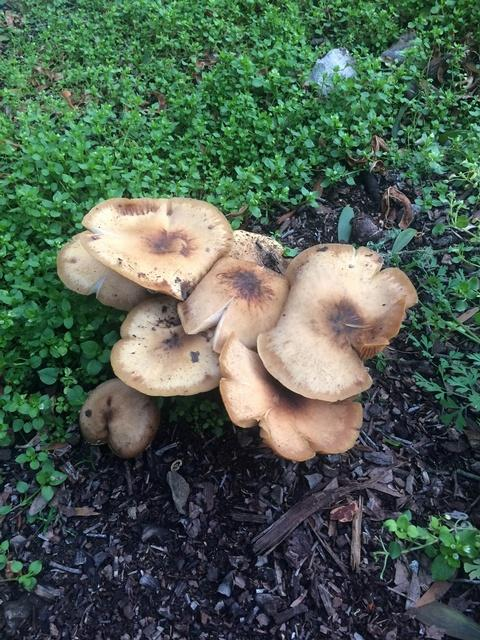edible_mushroom: (56, 195, 418, 462)
